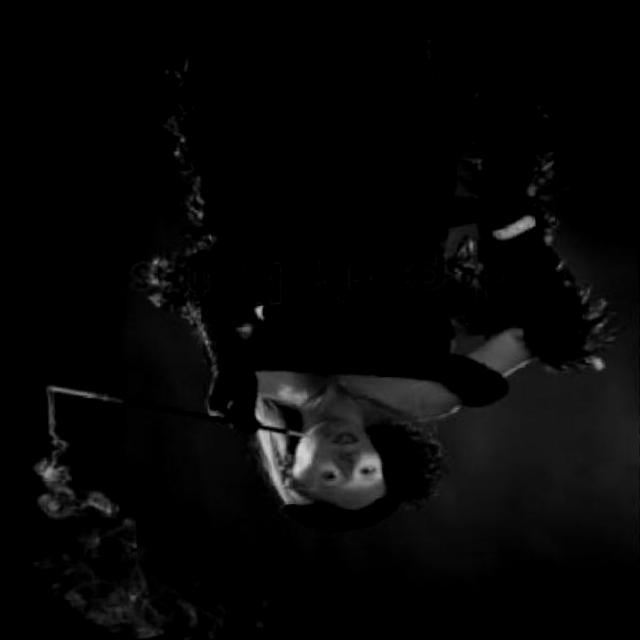cigarette: (40, 379, 103, 402)
